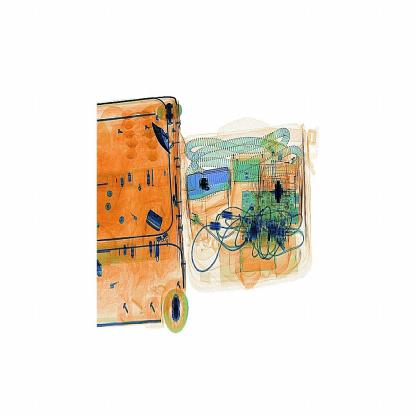scissors: (194, 167, 214, 197)
